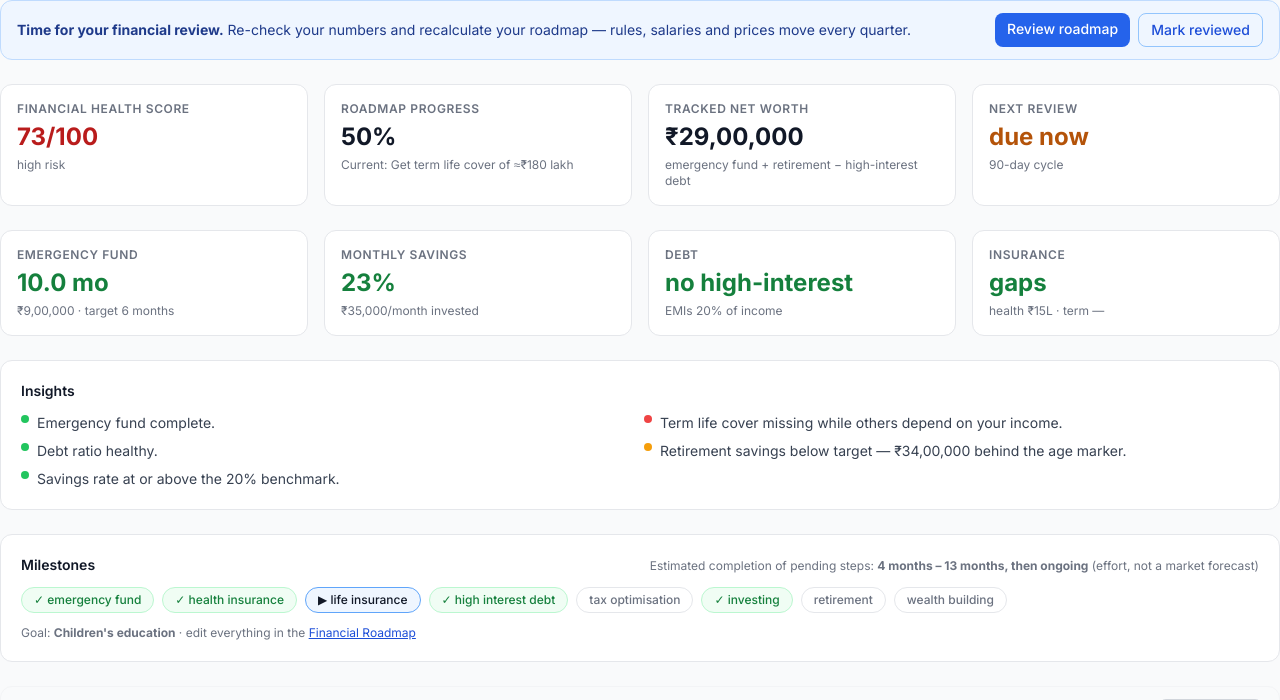
Scenario: FinancialDashboard › shows the review banner when due and defers it on 'Mark reviewed'
Expected: the text "Time for your financial review." is shown, [17,21,224,38]
Click the button "Mark reviewed": (1201, 30) [1138,13,1263,47]
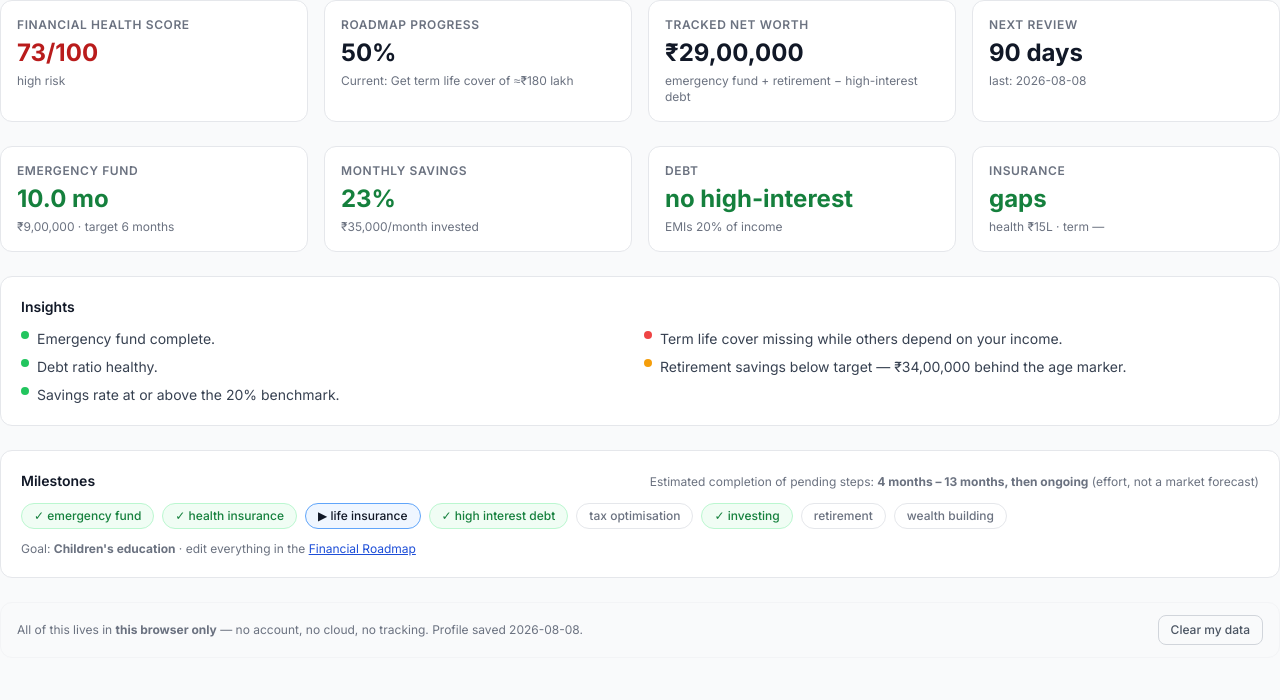
Expected: the text "Time for your financial review" is gone
